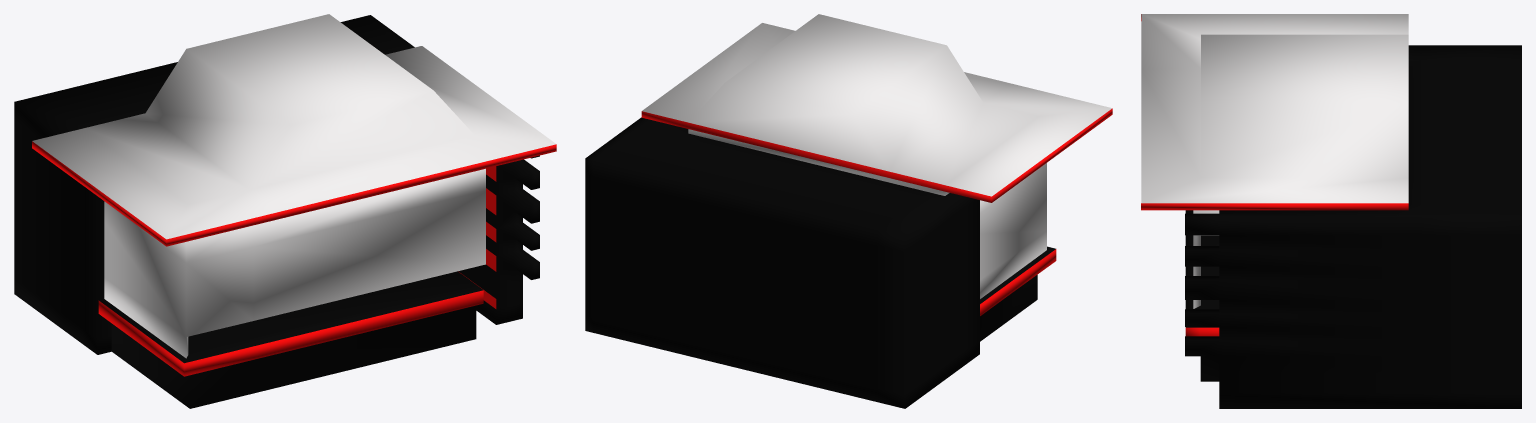
The model's file is Coffee_Kiosk.fbx.
3 views of the same model, side by side, from view 1: azimuth 30°, elevation 25°; view 2: azimuth 150°, elevation 25°; view 3: azimuth 270°, elevation 25° (orthographic). The views are drawn at different scales.
Visible parts, largest first — view 1: Box002, Box003, Box001; view 2: Box003, Box002, Box001; view 3: Box003, Box002, Box001.
Part boxes in pixels (x1=…): Box002: x1=32, y1=14, x2=556, y2=358; Box003: x1=14, y1=15, x2=539, y2=354; Box001: x1=98, y1=271, x2=483, y2=408; Box003: x1=585, y1=117, x2=979, y2=408; Box002: x1=641, y1=14, x2=1112, y2=298; Box001: x1=980, y1=246, x2=1056, y2=341; Box003: x1=1185, y1=45, x2=1521, y2=408; Box002: x1=1141, y1=14, x2=1408, y2=308; Box001: x1=1185, y1=210, x2=1219, y2=381.
Bounding box in the file's own units: 152 × 95.11 × 128.
